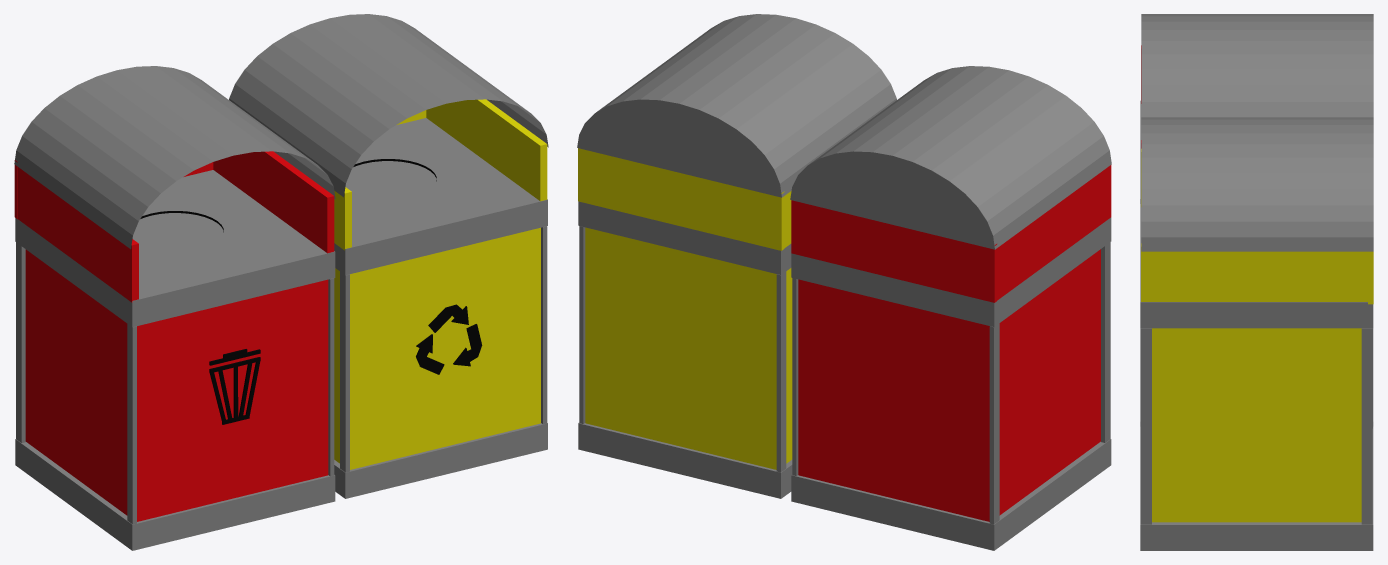
Rendered from bin.fbx.
3 renders of one model, left to right at view 1: azimuth 30°, elevation 25°; view 2: azimuth 150°, elevation 25°; view 3: azimuth 270°, elevation 25°, orthographic.
Parts seen in each view (by area): view 1: Rubbish, Recycle; view 2: Rubbish, Recycle; view 3: Recycle, Rubbish.
Boxes of the visible parts, x1=… form: Rubbish: x1=14, y1=66, x2=335, y2=550; Recycle: x1=229, y1=14, x2=548, y2=498; Rubbish: x1=790, y1=66, x2=1111, y2=550; Recycle: x1=577, y1=14, x2=896, y2=498; Recycle: x1=1140, y1=117, x2=1373, y2=550; Rubbish: x1=1140, y1=14, x2=1373, y2=426.
Size of the model in its own units: 634 by 537 by 308.
